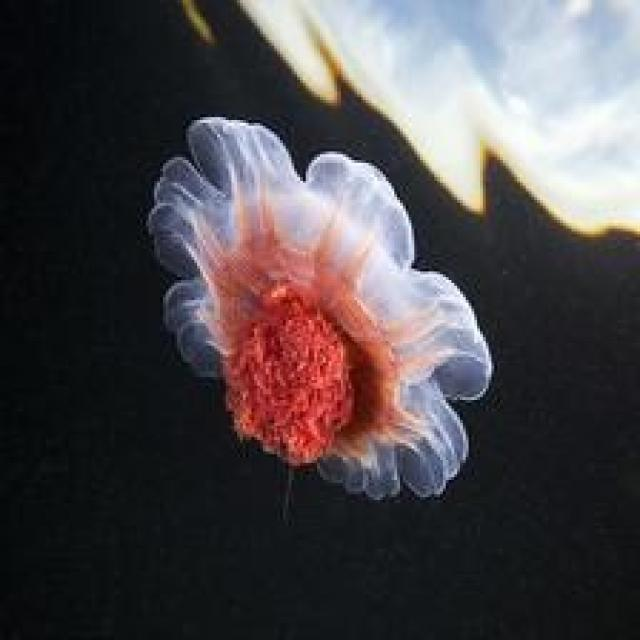Jellyfish: (143, 114, 494, 506)
